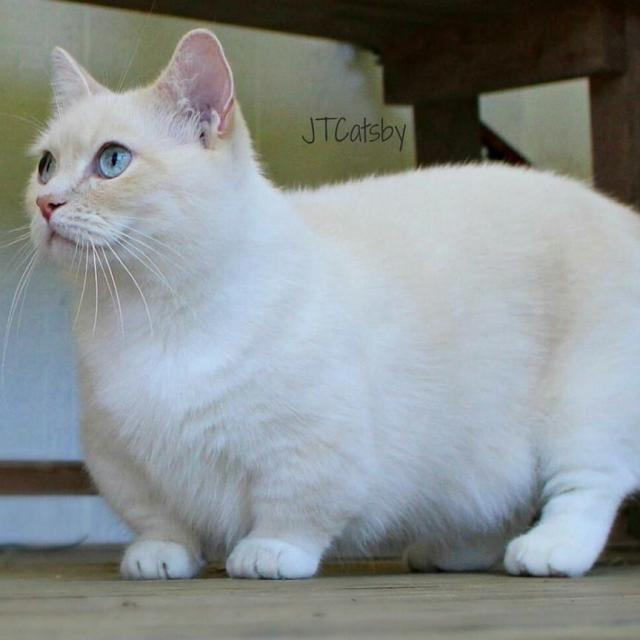Munchkin: (24, 25, 640, 585)
